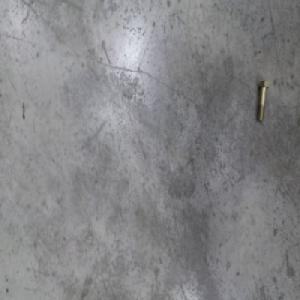Bolt: (253, 79, 266, 122)
